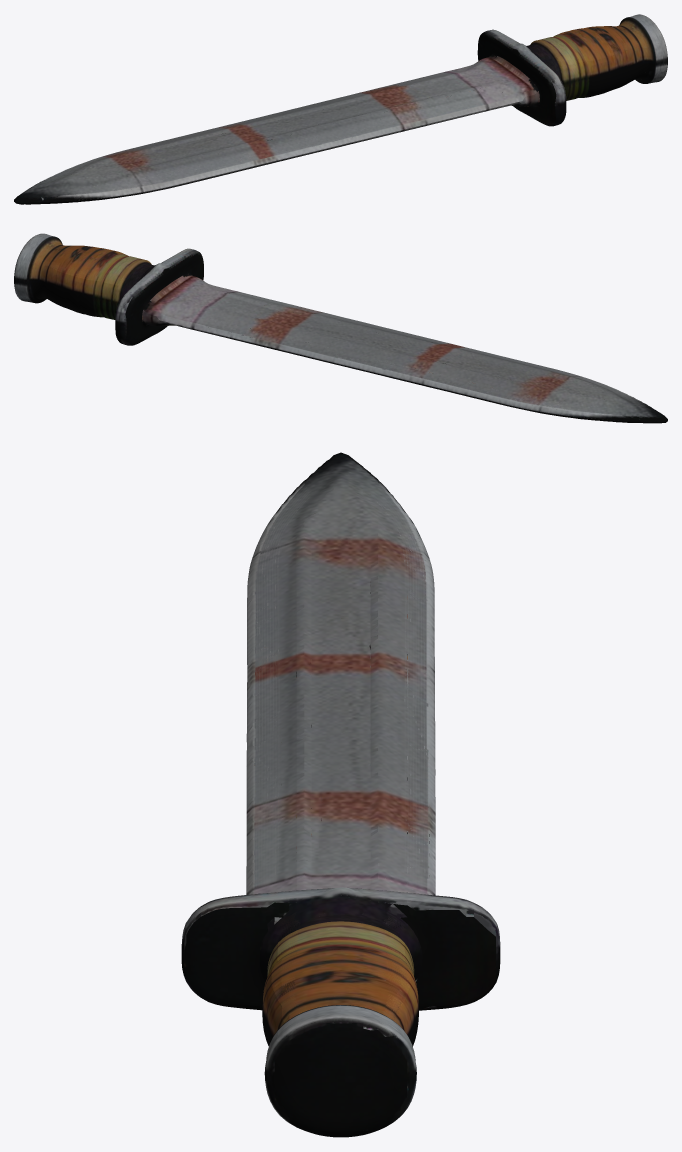
Rendered from source-33.glb.
The picture shows the model from 3 angles, top to bottom: view 1: azimuth 30°, elevation 25°; view 2: azimuth 150°, elevation 25°; view 3: azimuth 270°, elevation 25°; orthographic projection. The views are drawn at different scales.
Visible parts, largest first — view 1: tmpnjnpom7q.ply; view 2: tmpnjnpom7q.ply; view 3: tmpnjnpom7q.ply.
Boxes of the visible parts, box(x1,y1,x2,y2) form: tmpnjnpom7q.ply: box(14, 14, 667, 204); tmpnjnpom7q.ply: box(14, 233, 667, 423); tmpnjnpom7q.ply: box(181, 452, 500, 1137).
Bounding box in the file's own units: 1.57 × 0.1549 × 0.3396.
1 material, 1 textured.
